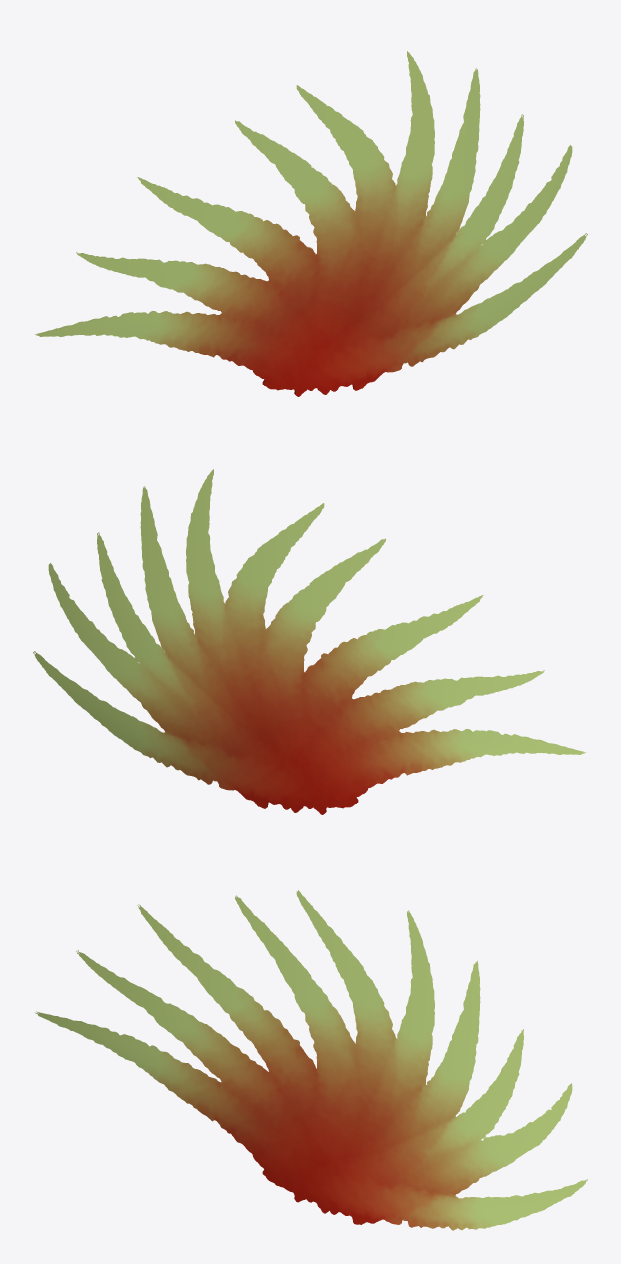
The model's file is HP3_weed071.fbx.
3 renders of one model, top to bottom at view 1: azimuth 30°, elevation 25°; view 2: azimuth 150°, elevation 25°; view 3: azimuth 330°, elevation 25°, orthographic.
Parts seen in each view (by area): view 1: HP3_weed071; view 2: HP3_weed071; view 3: HP3_weed071.
Boxes of the visible parts, x1,y1,x2,y2 form: HP3_weed071: (35, 51, 587, 396); HP3_weed071: (33, 469, 585, 814); HP3_weed071: (35, 890, 587, 1230).
Size of the model in its own units: 10.08 by 5.93 by 0.04.
